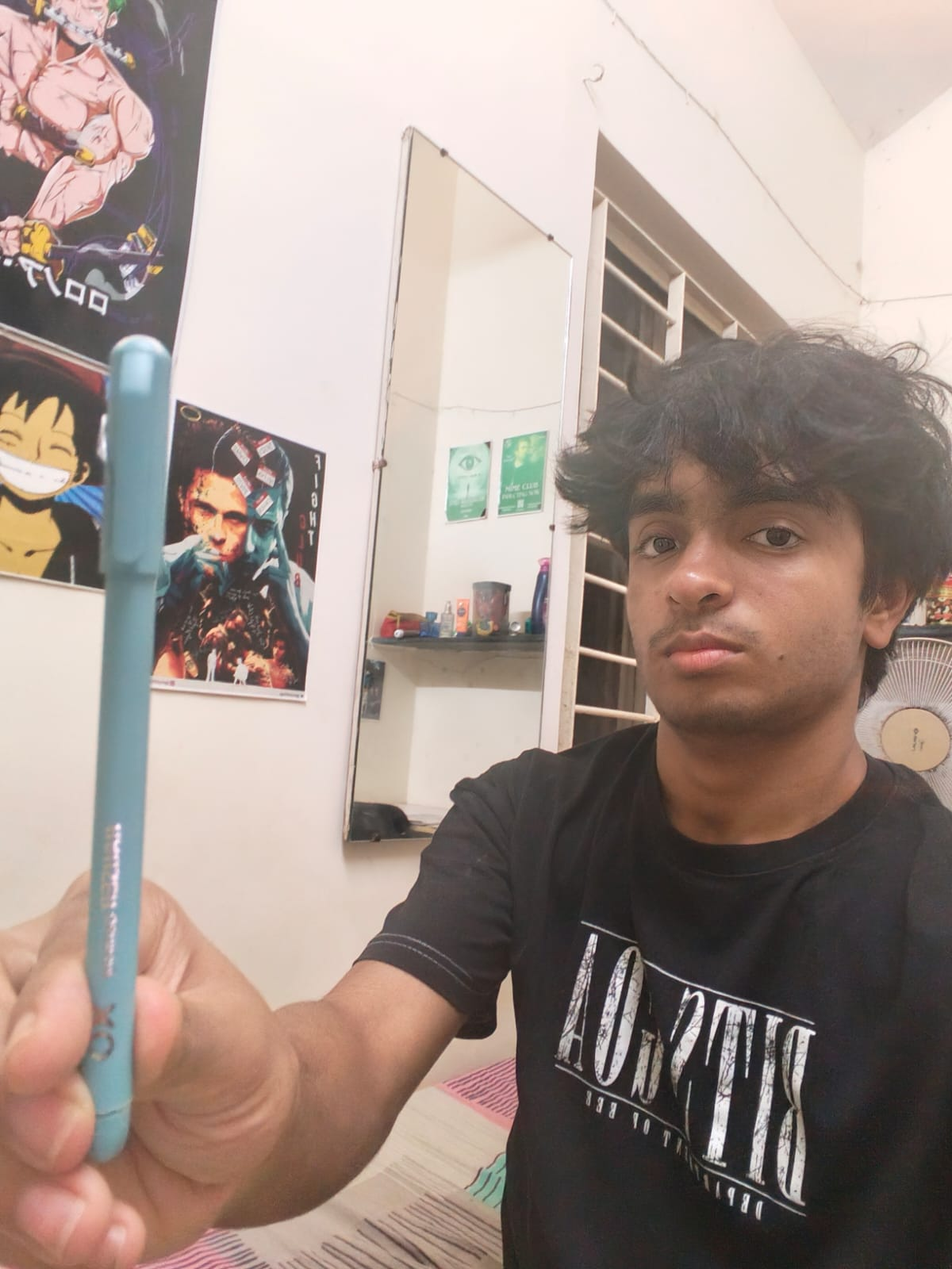pen: (64, 316, 202, 1168)
